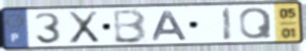3: (33, 12, 63, 45)
A: (151, 9, 190, 42)
B: (112, 8, 149, 45)
I: (222, 6, 234, 42)
Q: (238, 6, 274, 41)
X: (66, 9, 102, 46)
